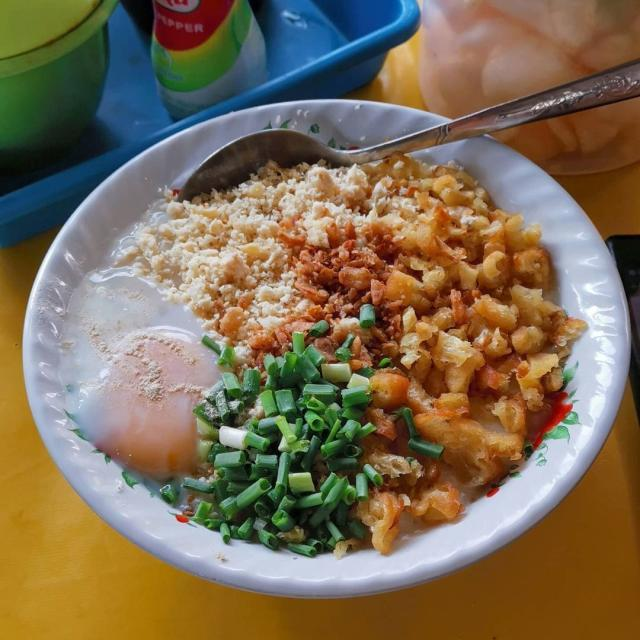bubur ayam: (59, 152, 591, 558)
mangkuk: (18, 56, 639, 604), (417, 1, 640, 178), (0, 0, 119, 174)
